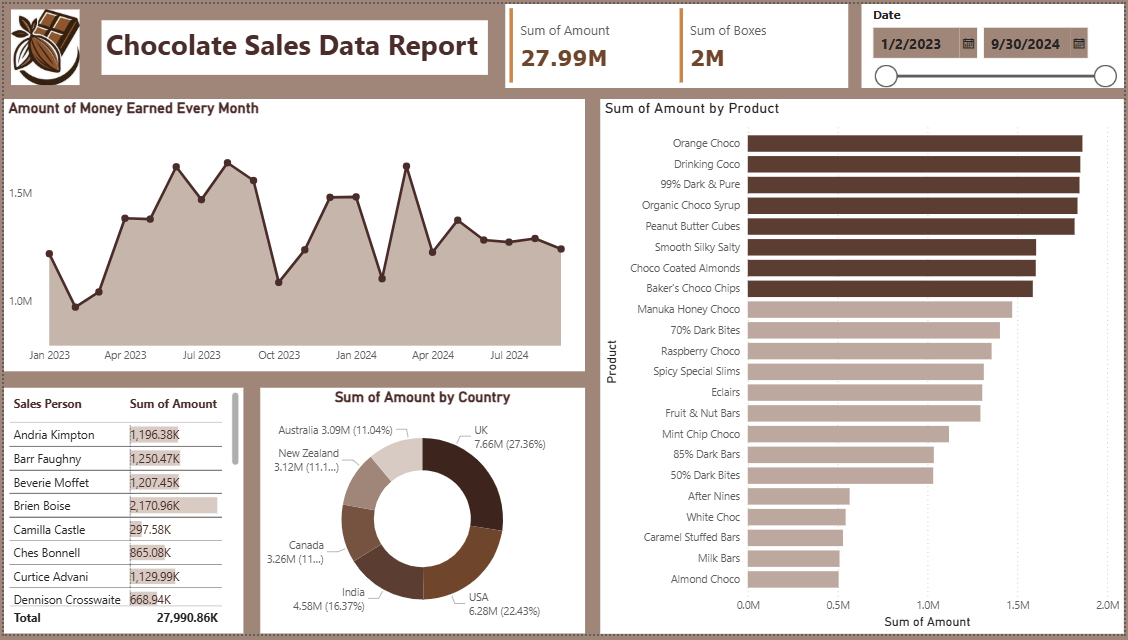

The dashboard page shown, as its layout file describes it:
{"tool":"powerbi","page":{"name":"Page 1","canvas":[1280,720],"ordinal":0},"visuals":[{"type":"lineChart","title":"Amount of Money Earned Every Month","fields":{"Category":["data.Date.Variation.Date Hierarchy.Year","data.Date.Variation.Date Hierarchy.Quarter","data.Date.Variation.Date Hierarchy.Month","data.Date.Variation.Date Hierarchy.Day"],"Y":["Sum(data.Amount)"]},"box":[0,108.3,663.9,311.1],"z":0},{"type":"donutChart","fields":{"Category":["data.Country"],"Y":["Sum(data.Amount)"]},"box":[293.1,438.9,370.8,280.6],"z":1000},{"type":"tableEx","fields":{"Values":["data.Sales Person","Sum(data.Amount)"]},"box":[0,438.9,273.6,280.6],"z":2000},{"type":"clusteredBarChart","fields":{"Y":["Sum(data.Amount)"],"Category":["data.Product"]},"box":[681.9,108.3,598.6,611.1],"z":3000},{"type":"cardVisual","fields":{"Data":["Sum(data.Amount)","Sum(data.Boxes)"]},"box":[572.2,0,391.7,95.8],"z":4000},{"type":"slicer","fields":{"Values":["data.Date"]},"box":[980.6,0,300,95.8],"z":5000},{"type":"textbox","box":[111.1,18.1,441.7,62.5],"z":6000},{"type":"image","box":[0,1.4,94.4,95.8],"z":6001}]}

Visuals, with their boxes in screenshot pixels (x1, y1, x2, y2), scaled from the page's 1280x720 canvas onto the 1128x640 screenshot:
"Amount of Money Earned Every Month" lineChart: x1=0 y1=96 x2=585 y2=373
donutChart - data.Country x Sum(data.Amount): x1=258 y1=390 x2=585 y2=639
tableEx - data.Sales Person x Sum(data.Amount): x1=0 y1=390 x2=241 y2=639
clusteredBarChart - Sum(data.Amount) x data.Product: x1=601 y1=96 x2=1127 y2=639
cardVisual - Sum(data.Amount) x Sum(data.Boxes): x1=504 y1=0 x2=849 y2=85
slicer - data.Date: x1=864 y1=0 x2=1127 y2=85
textbox: x1=98 y1=16 x2=487 y2=72
image: x1=0 y1=1 x2=83 y2=86
